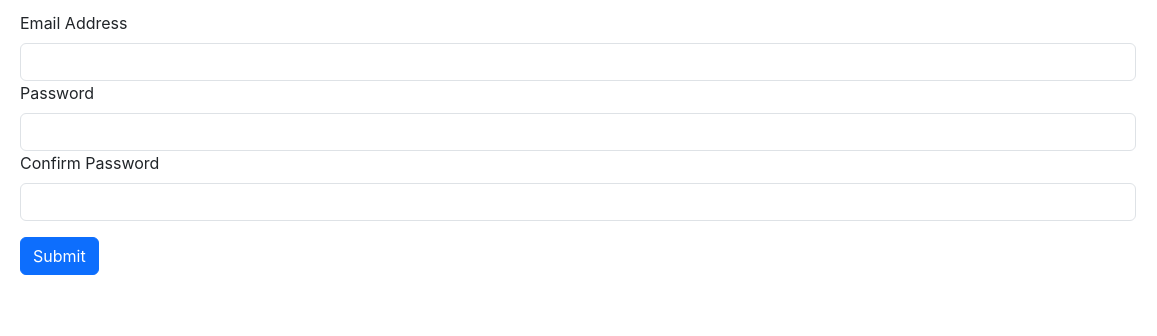
Test case: App testing › Error message tests › check showing password error mesage
The width and height of the screenshot is (1157, 336).
Expected: the text "the password you input should be 5 characters long" is not shown
Type "test@test.com" into the field labelled "Email Address" at (578, 62), box [20,43,1136,81]
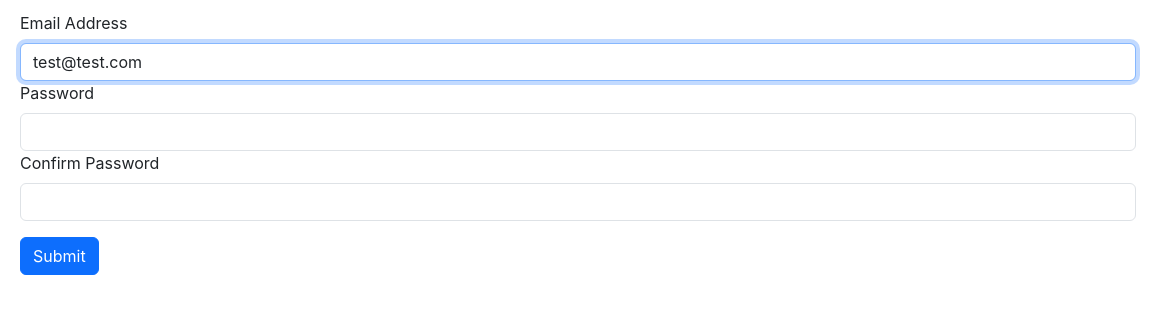
Type "123" into the password field labelled "Password" at (578, 132), box [20,113,1136,151]
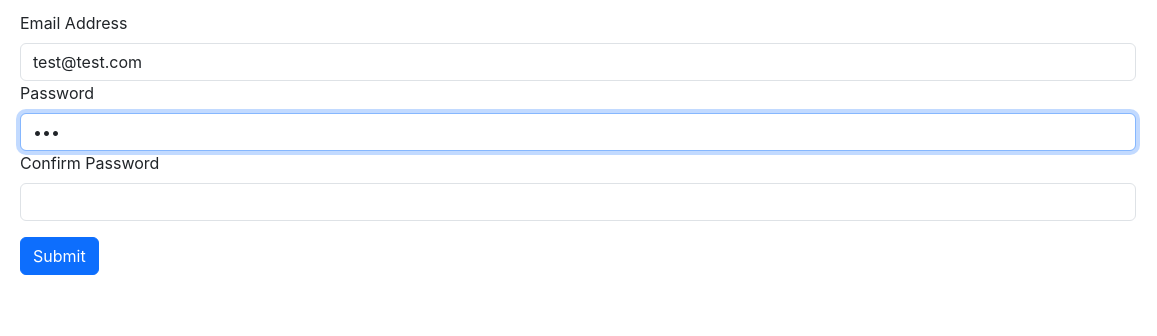
Click the button "Submit" at (59, 256), box [20,237,99,275]
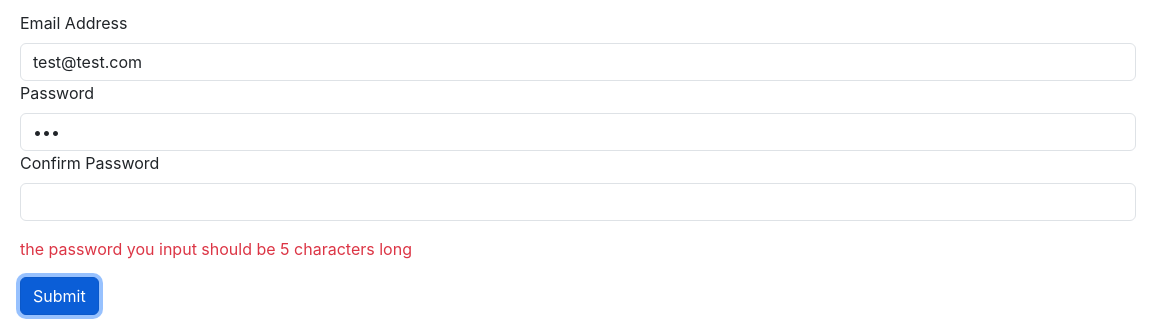
Expected: the text "the password you input should be 5 characters long" is shown, [20,239,412,259]
